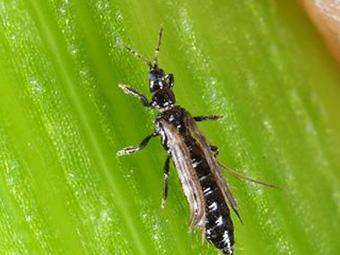Phlaeothripidae: (117, 26, 280, 255)
